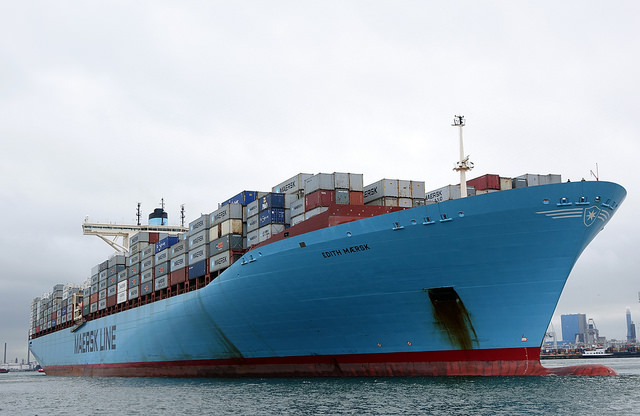container_ship: (28, 156, 626, 379)
